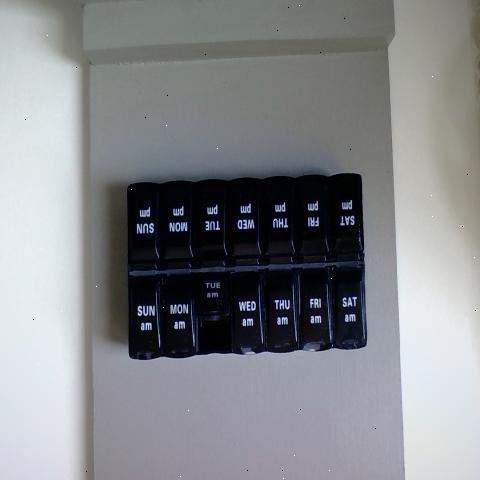FRI-am: (295, 274, 332, 352)
FRI-pm: (293, 178, 328, 264)
MON-am: (155, 276, 190, 356)
MON-pm: (156, 184, 190, 267)
Open: (193, 311, 228, 353)
PillBox: (105, 154, 377, 380)
SAT-am: (333, 268, 364, 348)
SAT-pm: (324, 176, 360, 259)
SUN-am: (126, 276, 159, 362)
SUN-pm: (125, 184, 156, 272)
THU-am: (266, 271, 295, 350)
THU-pm: (260, 182, 296, 260)
TUE-pm: (194, 183, 225, 264)
WED-am: (228, 271, 260, 353), (229, 187, 261, 267)
